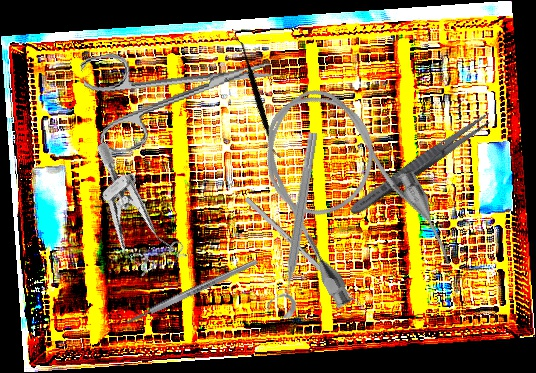Cannula: (238, 65, 461, 322)
Dressing Forceps: (346, 107, 496, 220)
Fixation Ring: (263, 129, 324, 320)
Iris Scissors: (79, 24, 282, 157)
Pusher: (243, 196, 378, 322)
Scalpel Handle: (125, 257, 259, 327)
Spatula Surgical: (191, 35, 322, 160)
Speculum: (57, 139, 199, 289)
